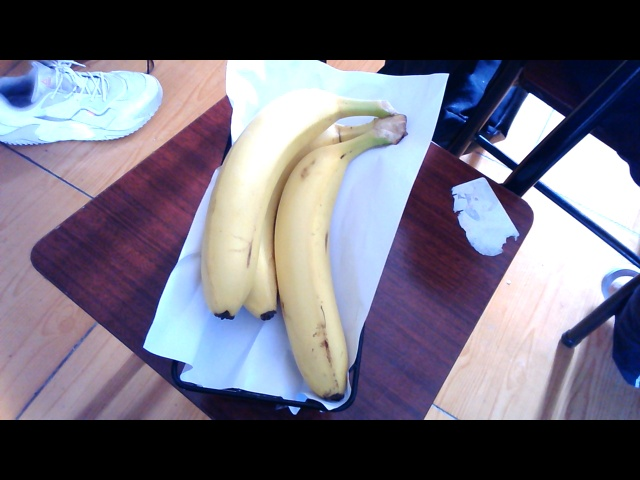banana: (195, 83, 393, 408)
